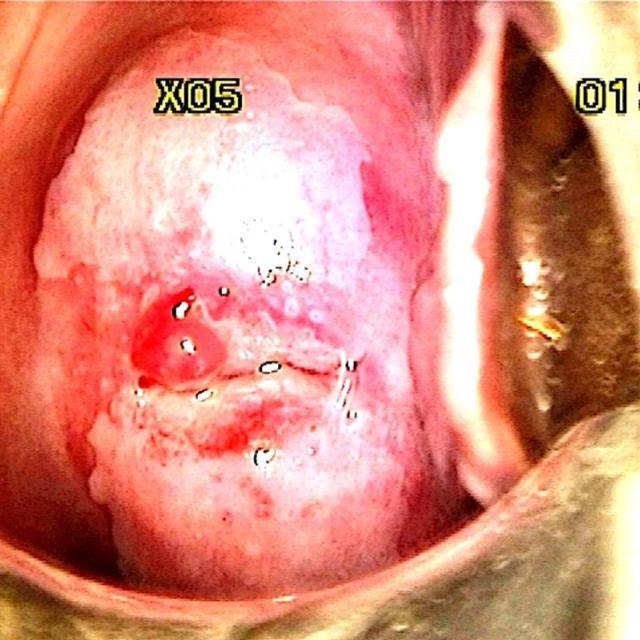cervical_lesion: (92, 252, 371, 505)
